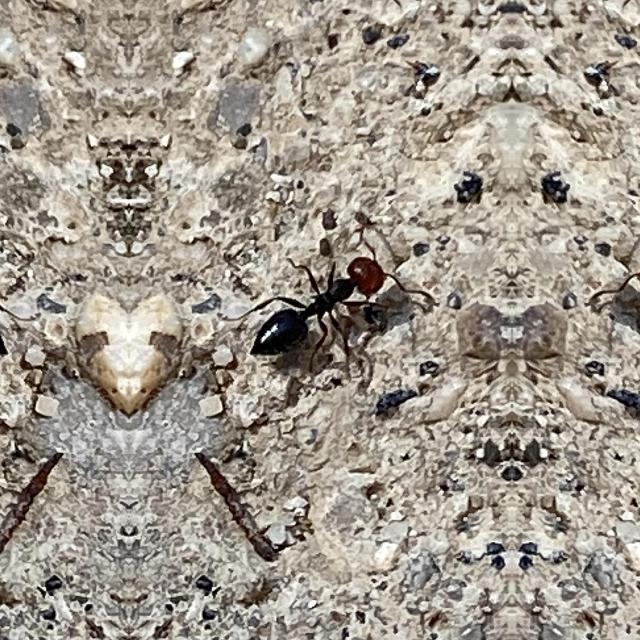Crematogaster: (236, 245, 394, 378)
